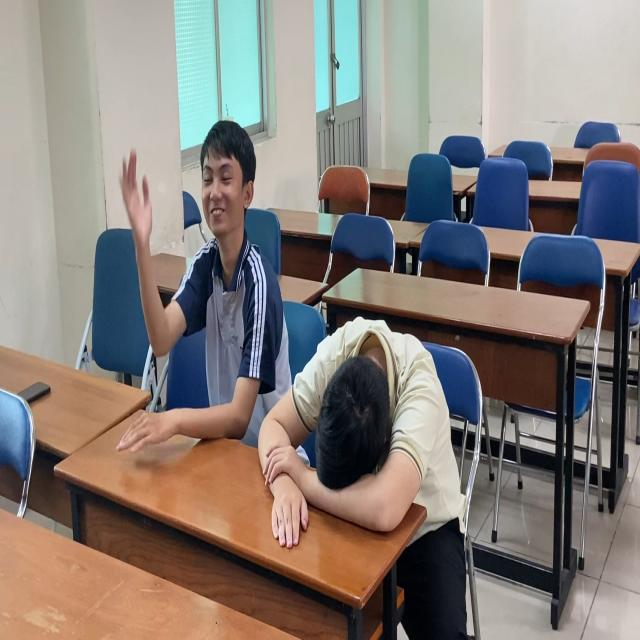raise_hand: (121, 116, 295, 458)
sleep: (256, 313, 460, 556)
